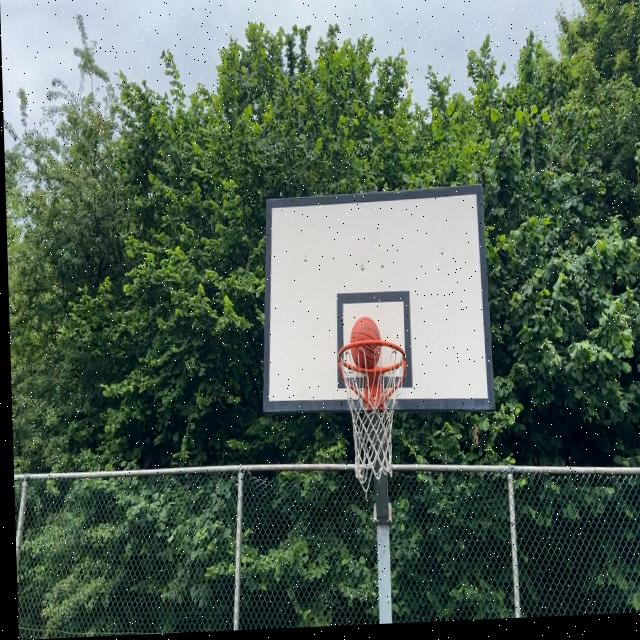rebound_hit: (349, 317, 383, 372)
